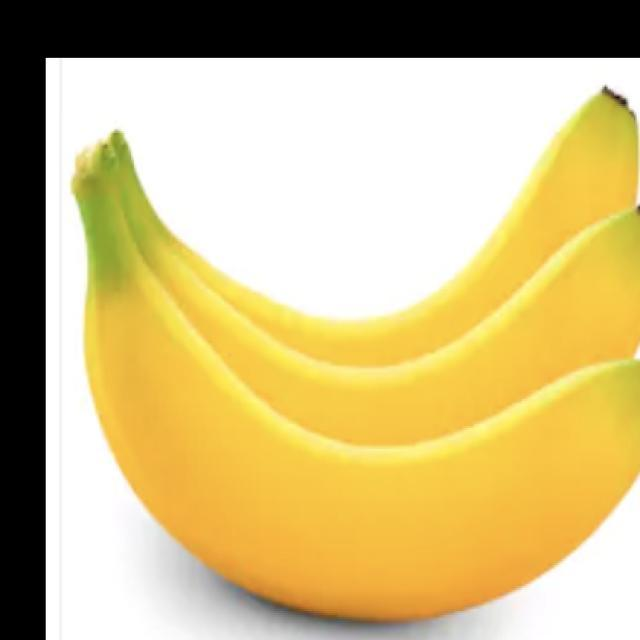Banana: (70, 85, 639, 623)
